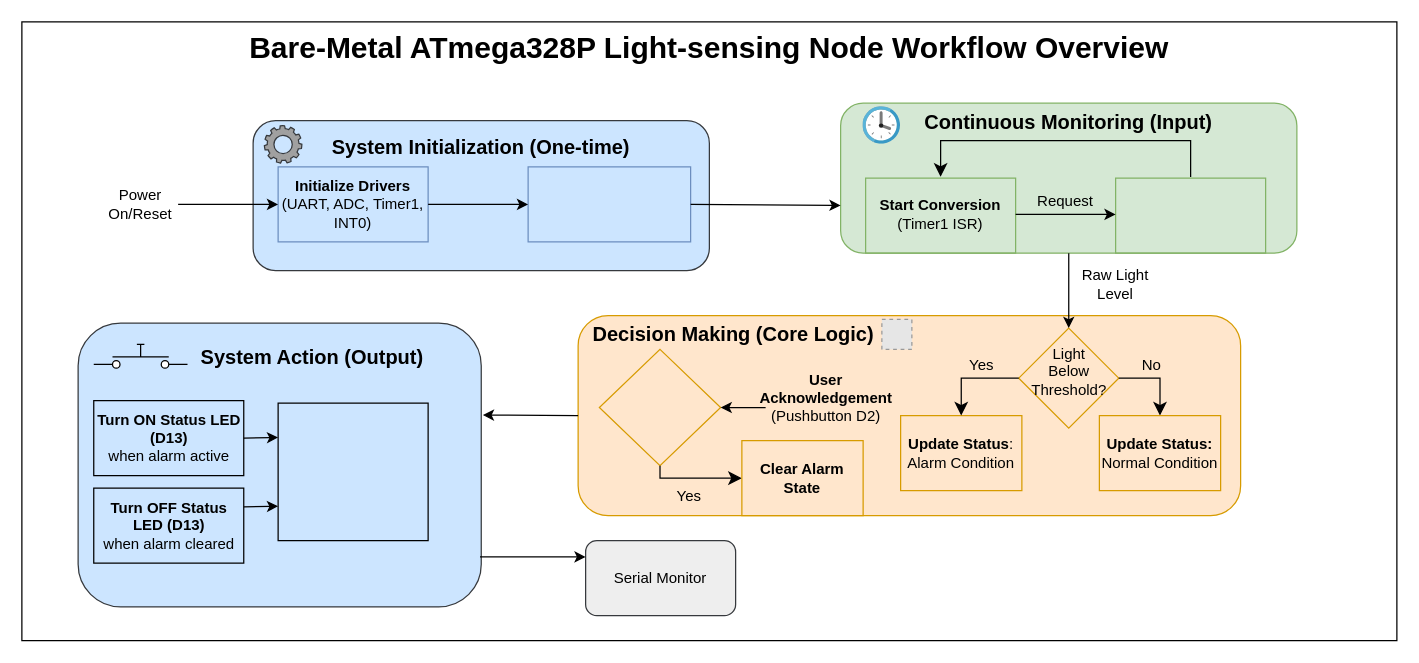
Image size: 1419x663. Some labels were removed from this diagram. Grey dashed boxes stand in for pictures. The shapes that lost their labels are listed below. From the top down, each one's centre as x and y in pixels, then its label:
(609,204): Set Initial Alarm State (OFF)
(1190,215): Sample LDR (A0)
(659,407): Alarm Acknowledged?
(352,471): Send Telemetry via UART transmit sensor, alarm, and acknowledgement data
